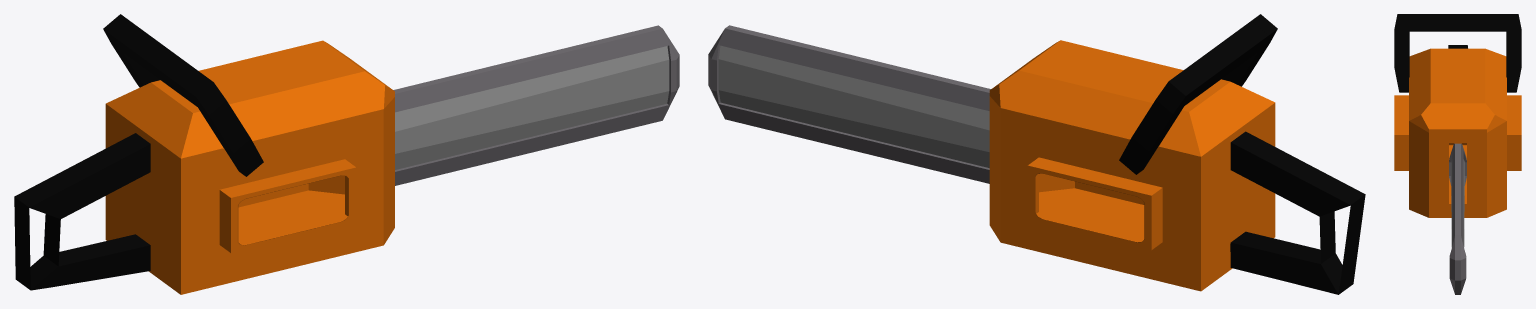
Rendered from Chainsaw.fbx.
3 views of the same model, side by side, from view 1: azimuth 30°, elevation 25°; view 2: azimuth 150°, elevation 25°; view 3: azimuth 270°, elevation 25° (orthographic). The views are drawn at different scales.
Visible parts, largest first — view 1: Base, Handles, Cube.001, Cube, Sides; view 2: Base, Handles, Cube.001, Cube, Sides; view 3: Base, Handles, Sides, Cube, Cube.001.
Part boxes in pixels (x1,y1,x2,y2): Base: [105, 40, 394, 294]; Handles: [14, 14, 263, 290]; Cube.001: [395, 46, 669, 169]; Cube: [393, 25, 679, 185]; Sides: [219, 159, 356, 252]; Base: [989, 40, 1275, 291]; Handles: [1119, 14, 1365, 294]; Cube.001: [718, 45, 989, 167]; Cube: [708, 25, 990, 183]; Sides: [1027, 157, 1162, 250]; Base: [1409, 48, 1506, 217]; Handles: [1394, 14, 1521, 144]; Sides: [1394, 95, 1521, 170]; Cube: [1449, 143, 1466, 294]; Cube.001: [1451, 159, 1464, 247].
Bounding box in the file's own units: 1007 × 313 × 261.
4 materials, 4 textured.
